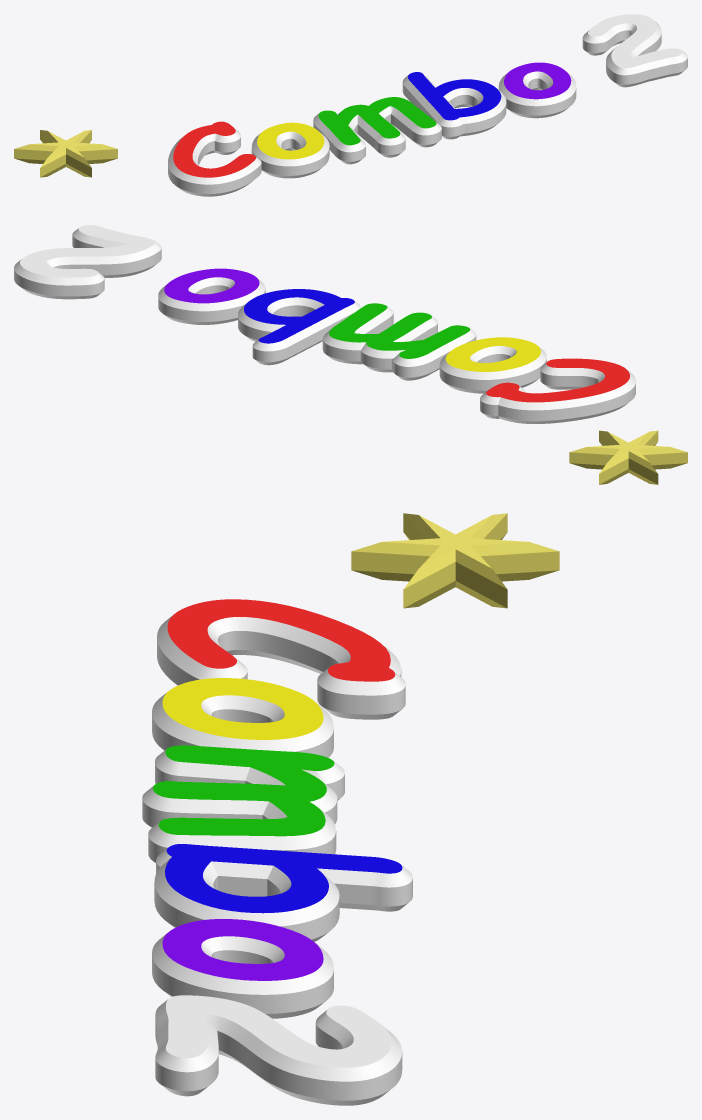
The model's file is combo2.FBX.
3 renders of one model, top to bottom at view 1: azimuth 30°, elevation 25°; view 2: azimuth 150°, elevation 25°; view 3: azimuth 270°, elevation 25°, orthographic. The views are drawn at different scales.
Parts seen in each view (by area): view 1: Text001, Text002, Star001; view 2: Text001, Text002, Star001; view 3: Text001, Text002, Star001.
Boxes of the visible parts, bbox=[...] form: Text001: bbox=[168, 62, 576, 196]; Text002: bbox=[582, 14, 687, 87]; Star001: bbox=[14, 130, 117, 177]; Text001: bbox=[158, 268, 635, 423]; Text002: bbox=[14, 225, 161, 299]; Star001: bbox=[569, 430, 687, 484]; Text001: bbox=[142, 599, 412, 1018]; Text002: bbox=[155, 995, 402, 1105]; Star001: bbox=[351, 513, 559, 608].
Bounding box in the file's own units: 0.265 × 0.0796 × 0.012.
